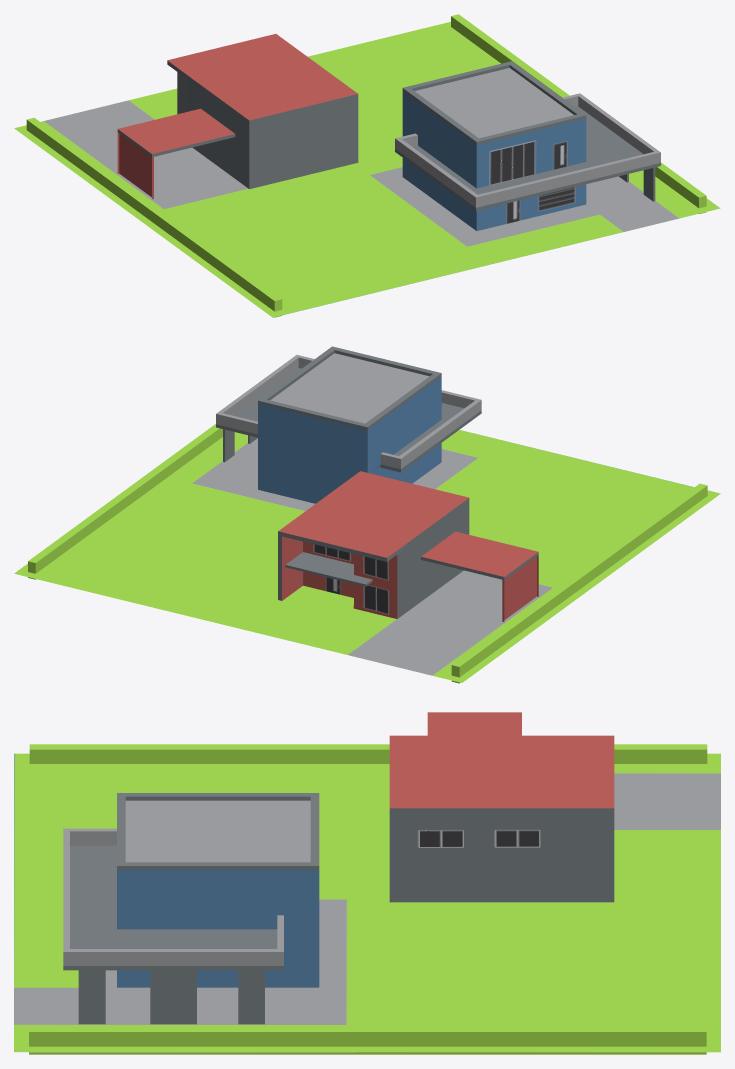
The model's file is 2maisons_1.glb.
3 renders of one model, top to bottom at view 1: azimuth 30°, elevation 25°; view 2: azimuth 150°, elevation 25°; view 3: azimuth 270°, elevation 25°, orthographic. The views are drawn at different scales.
Visible parts, largest first — view 1: Plan; view 2: Plan; view 3: Plan.
Boxes of the visible parts, left/top/right/bottom form: Plan: left=14, top=14, right=720, bottom=317; Plan: left=14, top=346, right=720, bottom=683; Plan: left=14, top=712, right=720, bottom=1054.
Bounding box in the file's own units: 15 × 3.26 × 15.
1 material, 1 textured.
